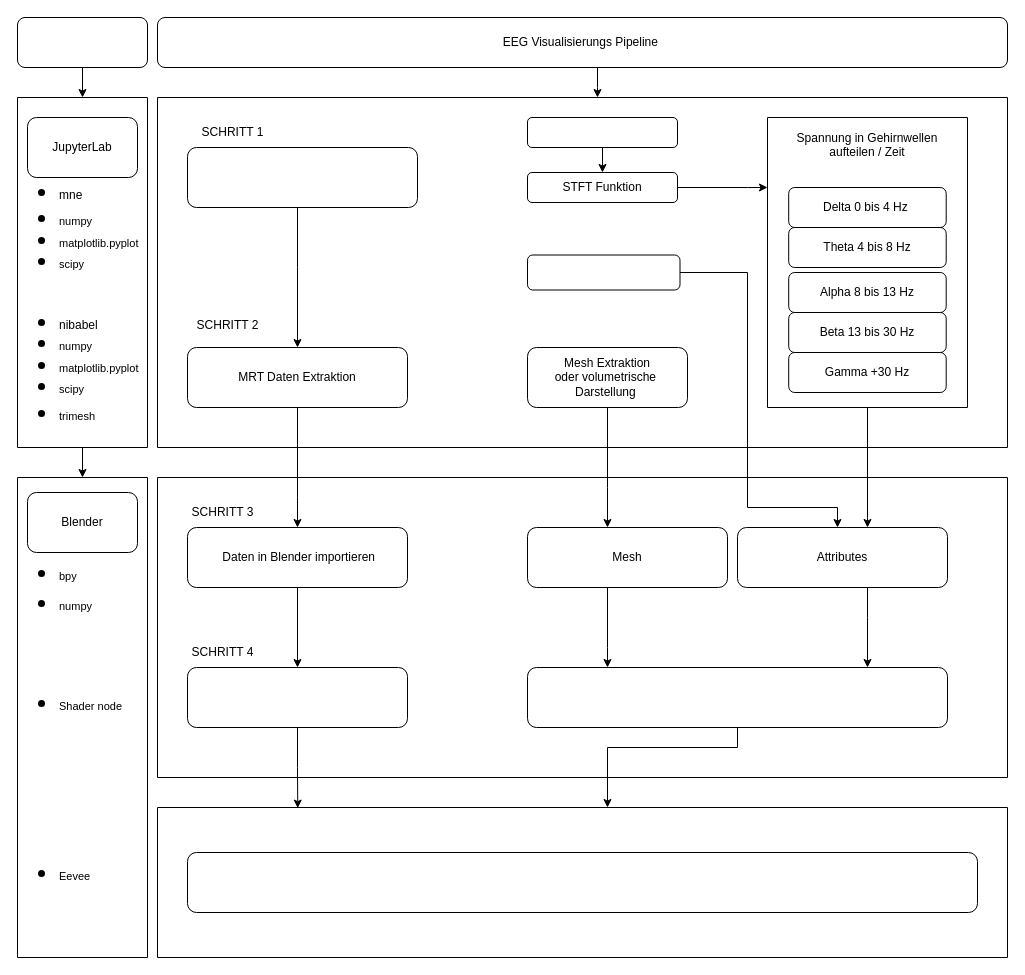
Image size: 1025x975. Some labels were removed from this diagram. Each missing label, with the centre of its shape:
Daten kombinieren mit Shader: point 297,697
EEG Daten Extraktion: point 302,177
FFT Funktion: point 602,132
Position der Elektrode: point 603,272
Shader: point 737,697
Tools: point 82,42
Visualisierung: point 582,882
